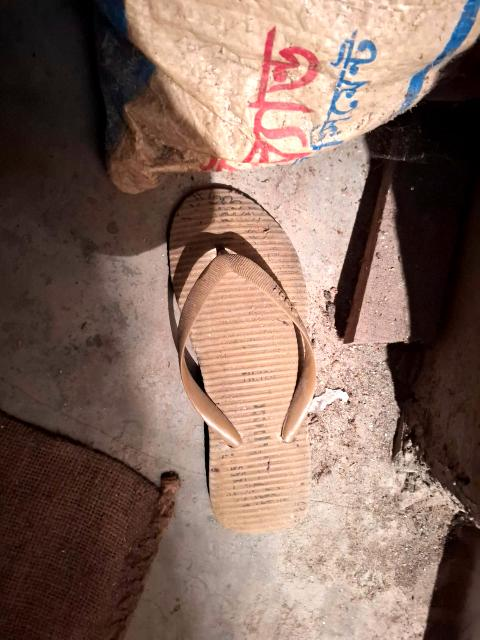sandal: (135, 180, 325, 546)
